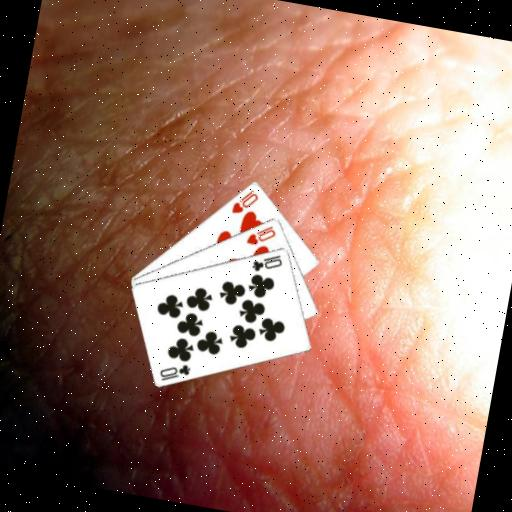10C: (155, 356, 193, 386), (248, 247, 285, 276)
10H: (228, 183, 261, 218), (243, 218, 279, 250)
